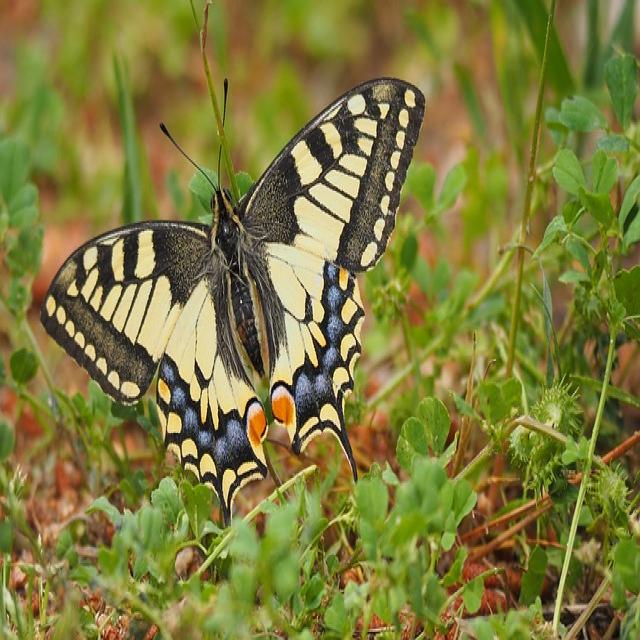butterfly: (42, 77, 426, 512)
